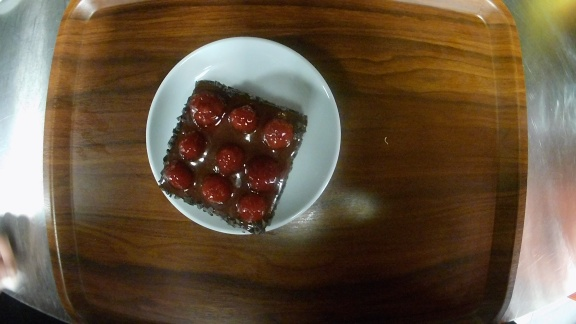cileklipasta: (144, 36, 342, 237)
